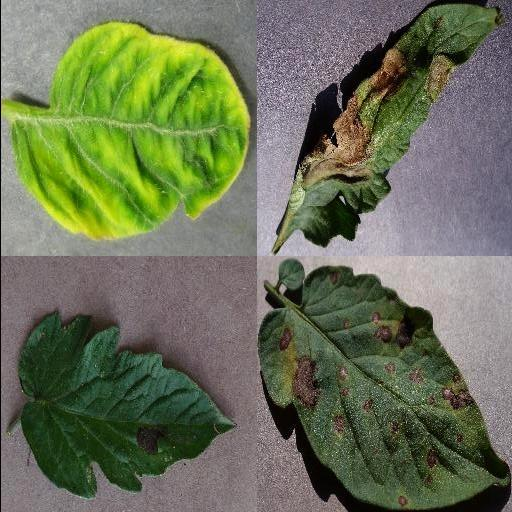Early Blight: (256, 266, 510, 511), (20, 312, 234, 502)
Late Blight: (268, 5, 506, 251)
Yellow Leaf Curl Virus: (11, 22, 253, 240)
